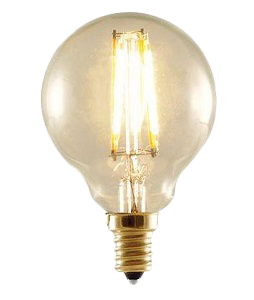Nonrec_Glass: (32, 5, 225, 276)
